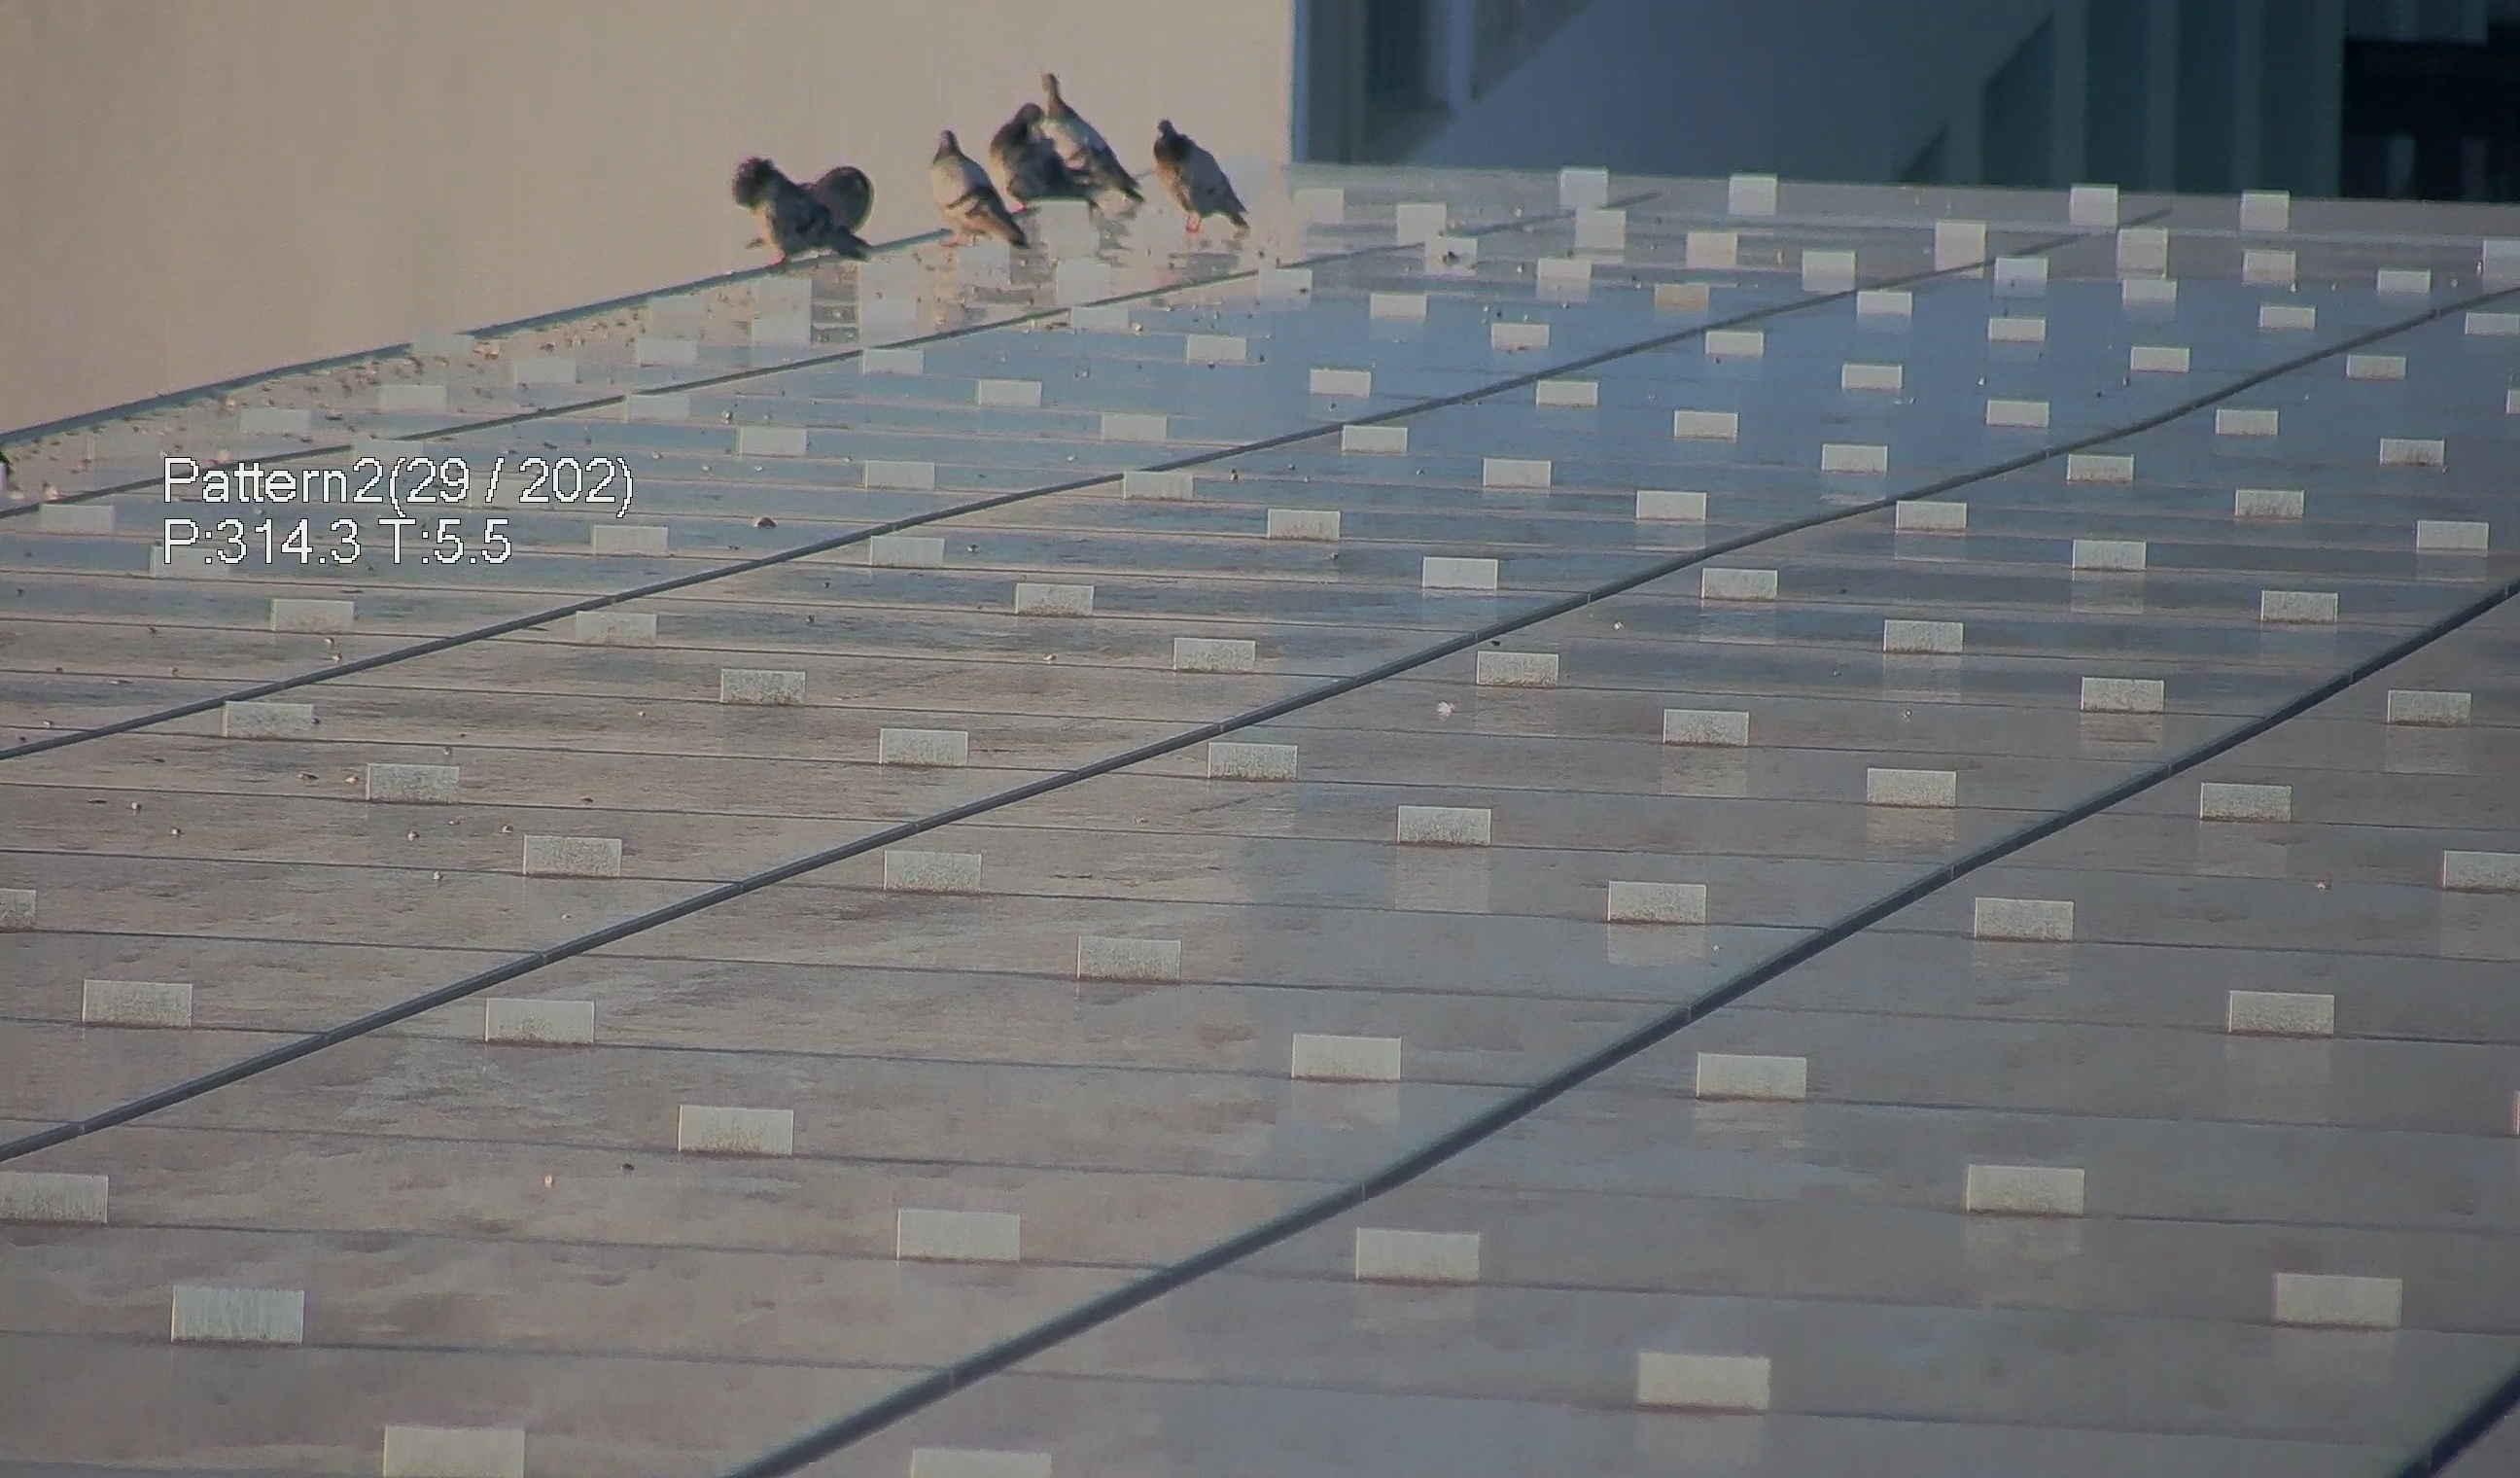Pigeon: (995, 69, 1134, 222), (716, 141, 881, 269), (907, 109, 1038, 252), (1138, 106, 1252, 234)
